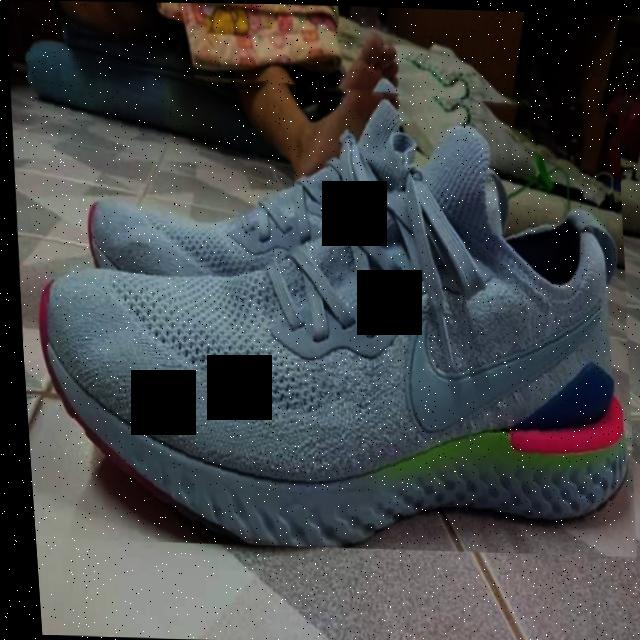shoe: (17, 59, 640, 555)
